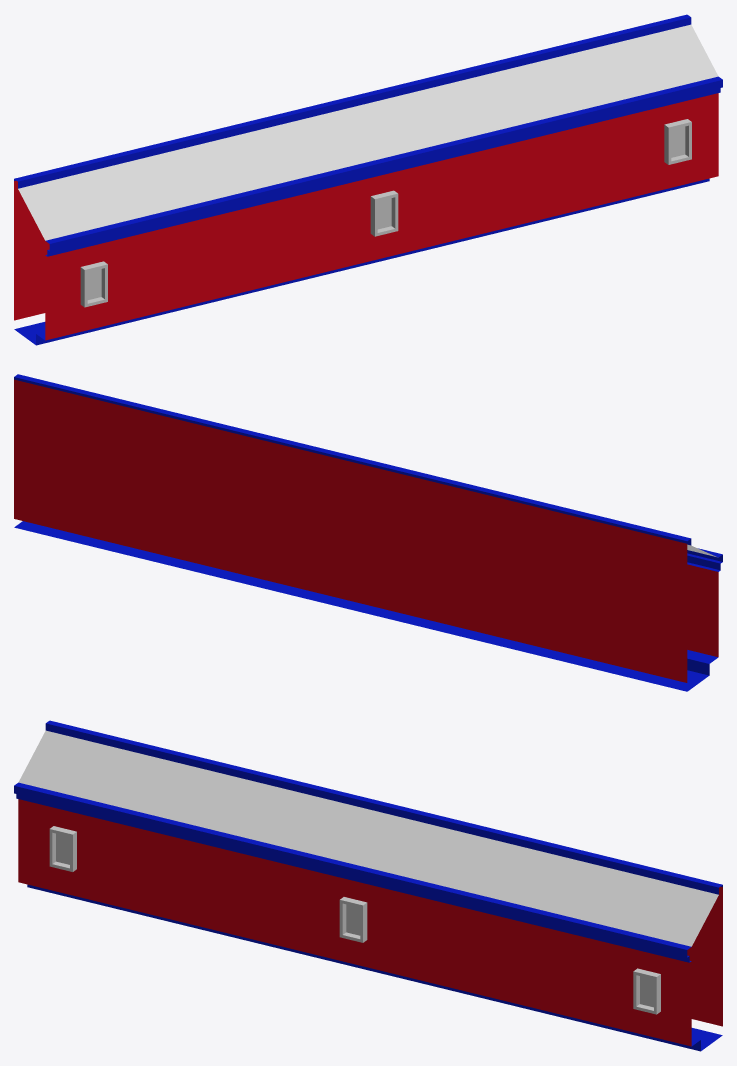
3 views of the same model, one above another, from view 1: azimuth 30°, elevation 25°; view 2: azimuth 150°, elevation 25°; view 3: azimuth 330°, elevation 25° (orthographic).
Visible parts, largest first — view 1: Group_2.2; view 2: Group_2.2; view 3: Group_2.2.
Part boxes in pixels (bbox=[...]): Group_2.2: bbox=[14, 14, 722, 345]; Group_2.2: bbox=[14, 374, 722, 691]; Group_2.2: bbox=[14, 720, 722, 1051].
Bounding box in the file's own units: 1840 × 393 × 169.
